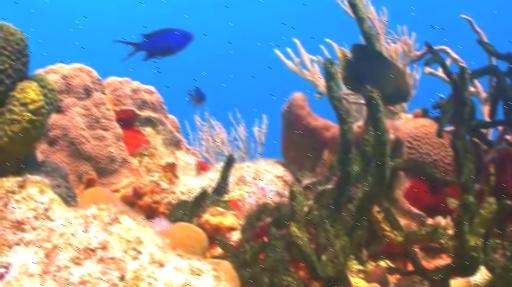Fish: (340, 45, 410, 106), (112, 27, 193, 61), (185, 87, 205, 106)
